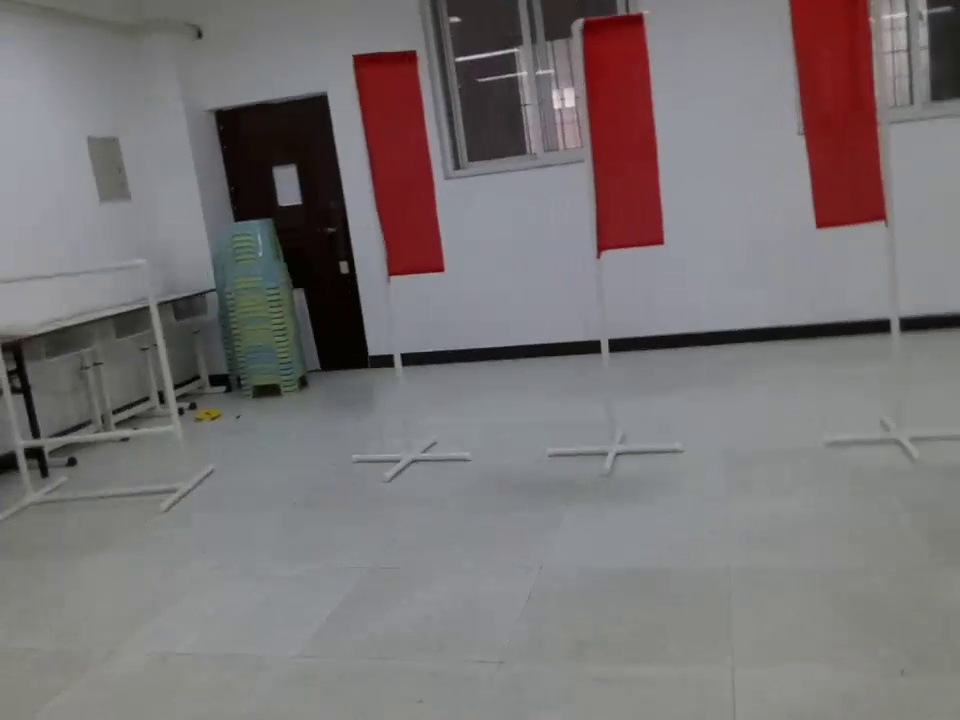qi: (786, 5, 906, 253), (342, 49, 453, 270), (574, 17, 671, 265)
